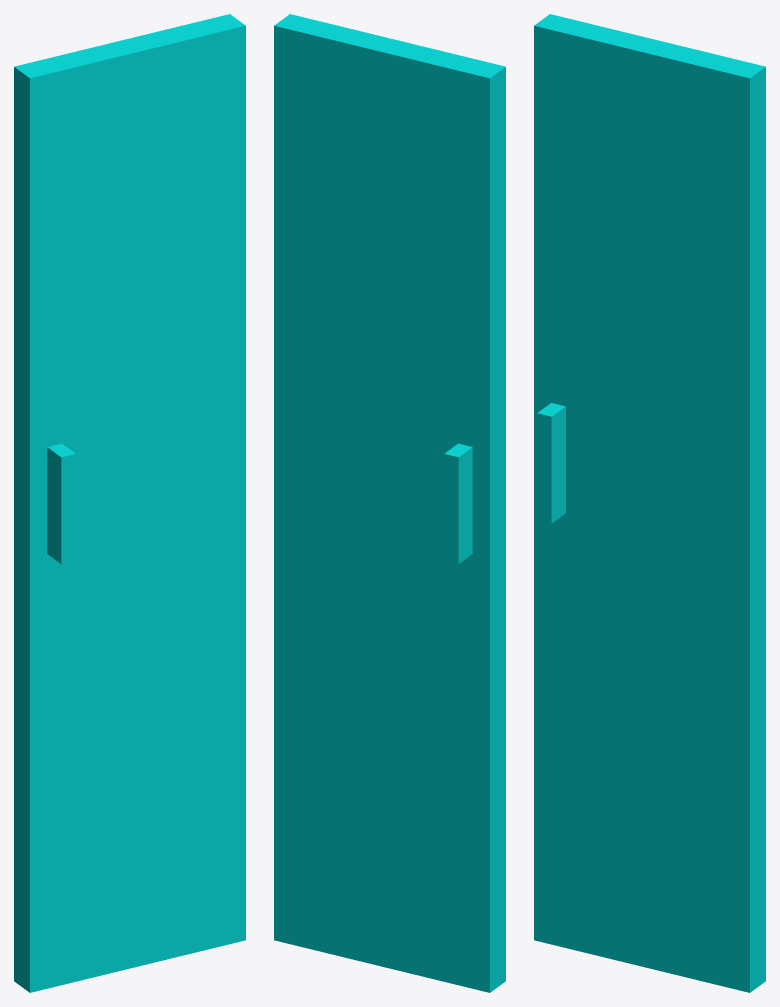
Rendered from SM_Bld_Wall_Door_Large_01_Door_02_Collision.fbx.
3 views of the same model, side by side, from view 1: azimuth 30°, elevation 25°; view 2: azimuth 150°, elevation 25°; view 3: azimuth 330°, elevation 25° (orthographic).
Parts seen in each view (by area): view 1: SM_Bld_Wall_Door_Large_01_Door_02_Collision; view 2: SM_Bld_Wall_Door_Large_01_Door_02_Collision; view 3: SM_Bld_Wall_Door_Large_01_Door_02_Collision.
Part boxes in pixels (x1,y1,x2,y2): SM_Bld_Wall_Door_Large_01_Door_02_Collision: (14, 14, 245, 992); SM_Bld_Wall_Door_Large_01_Door_02_Collision: (274, 14, 505, 992); SM_Bld_Wall_Door_Large_01_Door_02_Collision: (534, 14, 765, 992).
Bounding box in the file's own units: 58.63 × 237 × 20.7.
